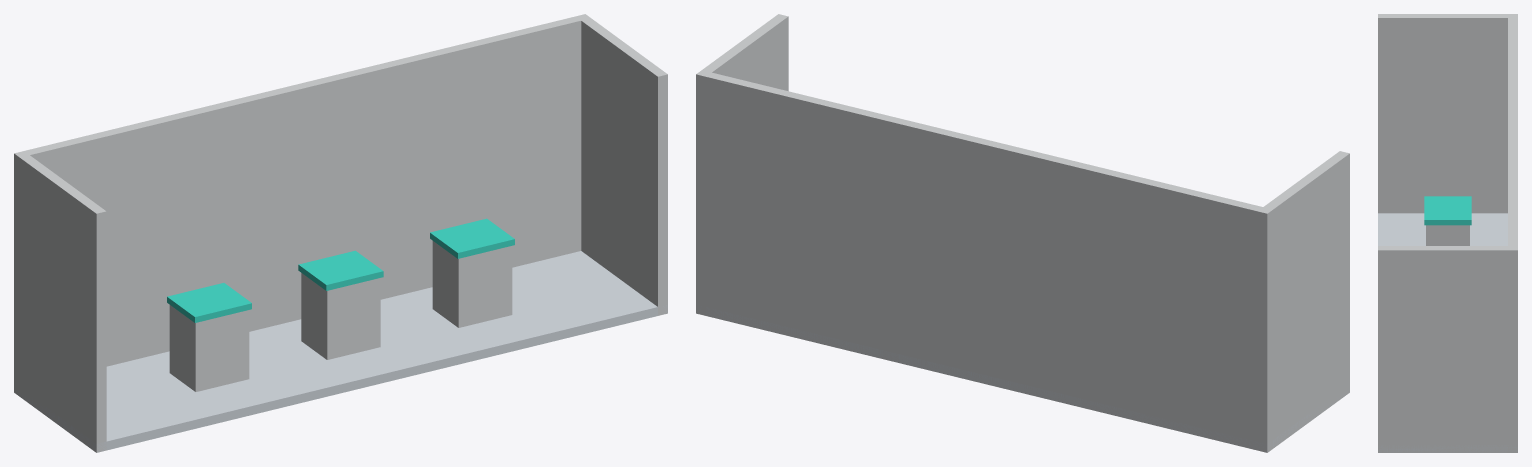
3 views of the same model, side by side, from view 1: azimuth 30°, elevation 25°; view 2: azimuth 150°, elevation 25°; view 3: azimuth 270°, elevation 25° (orthographic). The views are drawn at different scales.
Parts seen in each view (by area): view 1: Exhibition Booth Concept; view 2: Exhibition Booth Concept; view 3: Exhibition Booth Concept.
Part boxes in pixels (x1,y1,x2,y2): Exhibition Booth Concept: (14,14,667,452); Exhibition Booth Concept: (696,14,1349,452); Exhibition Booth Concept: (1378,14,1517,452).
Bounding box in the file's own units: 8 × 3.2 × 2.
